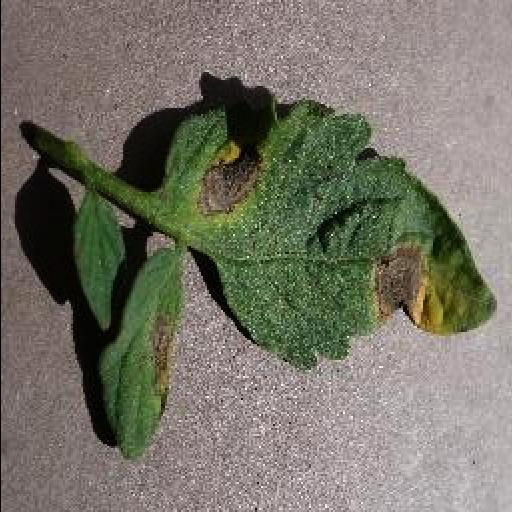Early Blight: (170, 87, 500, 368)
